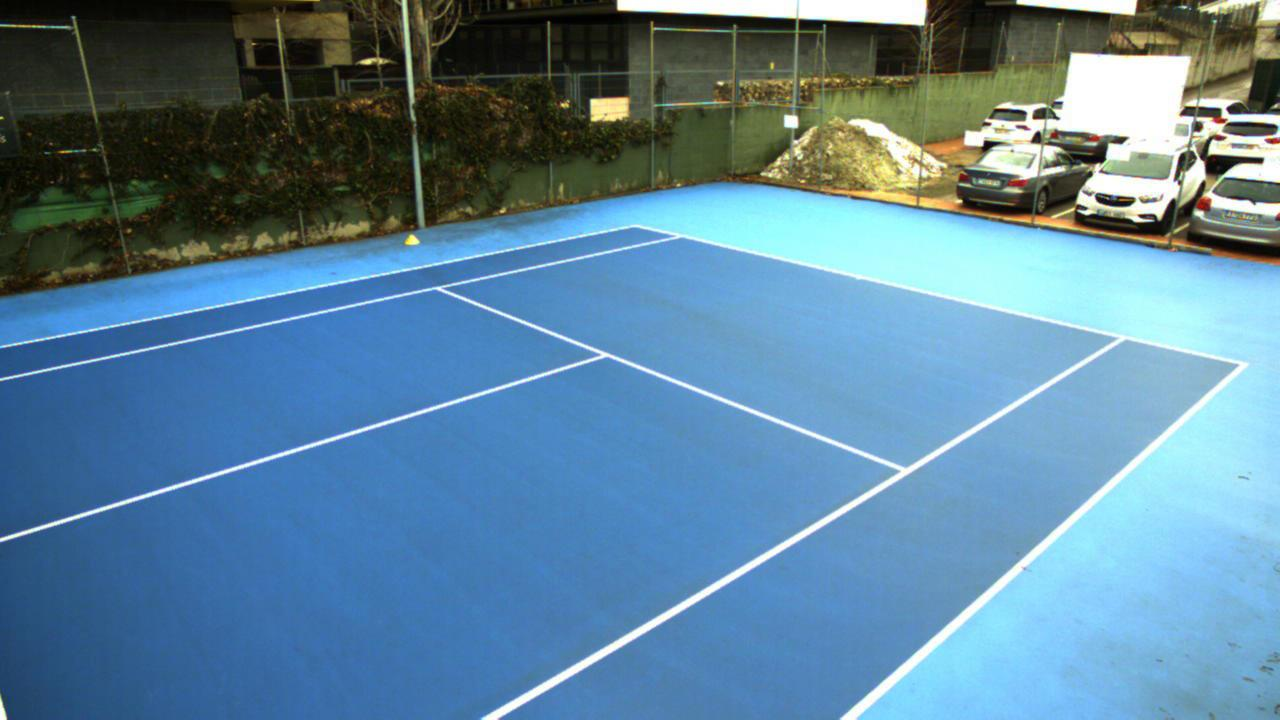cancha_tenis: (0, 236, 1128, 720)
point_f1: (666, 223, 692, 243)
point_f2: (1107, 324, 1132, 350)
point_fc1: (848, 269, 868, 287)
point_i1: (428, 279, 452, 299)
point_i2: (884, 459, 917, 485)
point_ic1: (588, 343, 617, 368)
